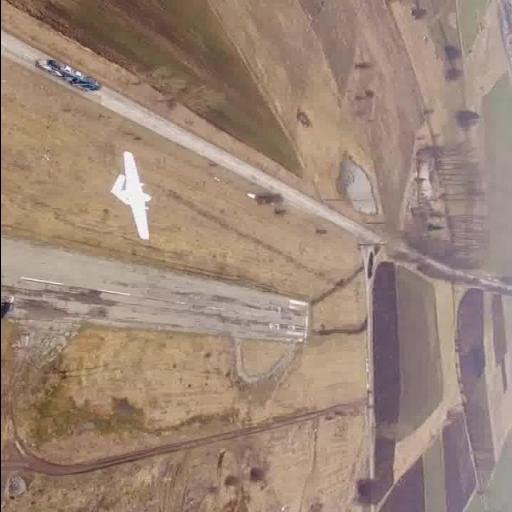uav: (100, 149, 154, 246)
